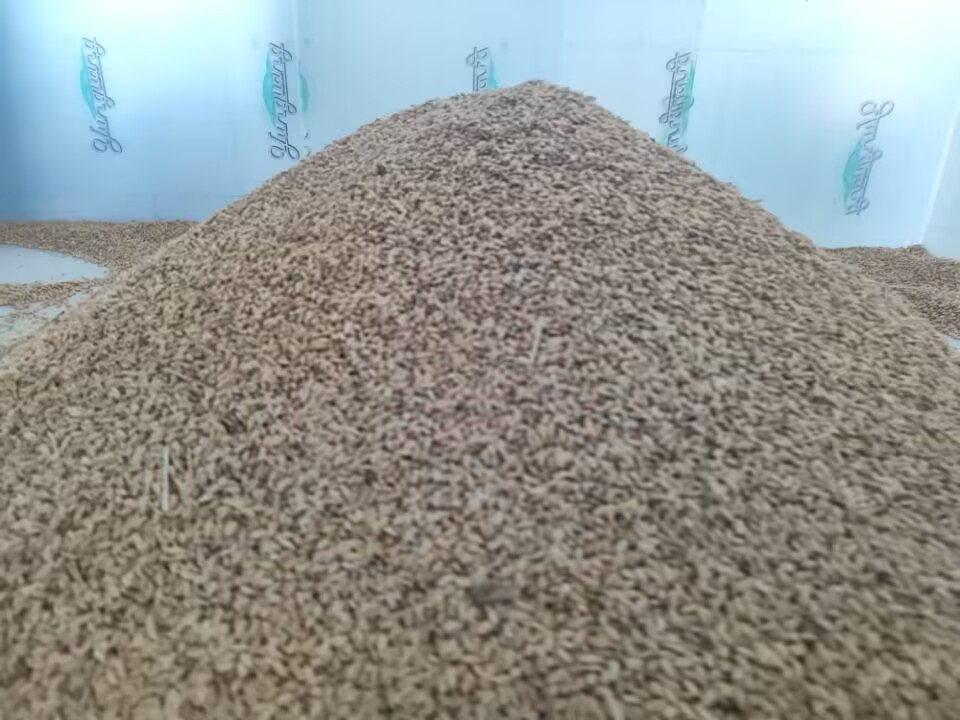Grain: (62, 74, 952, 683)
